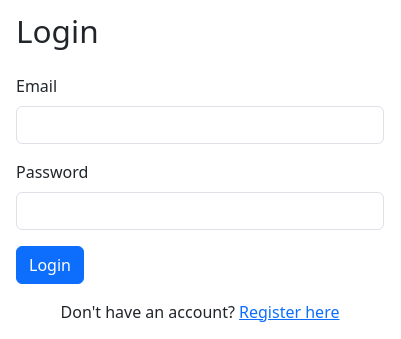
Test: button shows "Logging in..." while the request is in flight
The width and height of the screenshot is (401, 339).
Type "user@test.com" into the field labelled "Email" at coordinates (200, 125), box [16,106,384,144]
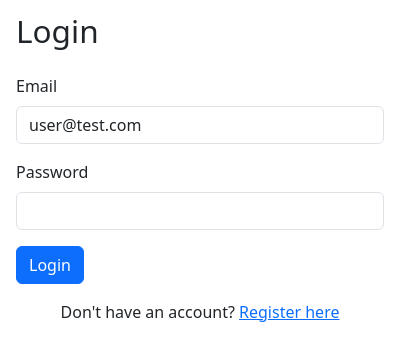
Type "password" into the password field labelled "Password" at coordinates (200, 211), box [16,192,384,230]
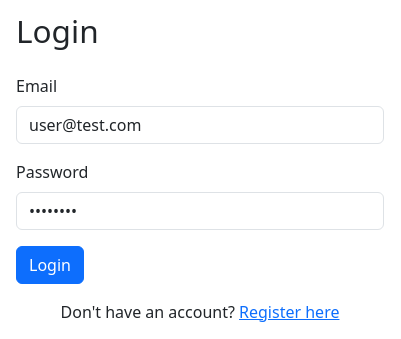
Click the button "Login" at coordinates (50, 265), box [16,246,84,284]
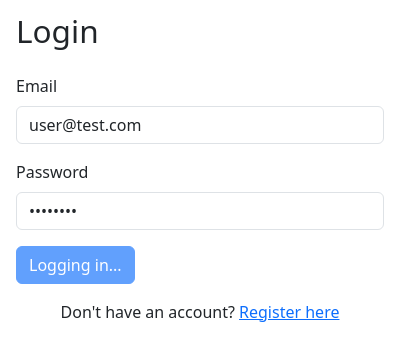
Expected: the button "Logging in..." is disabled, [16,246,135,284]
